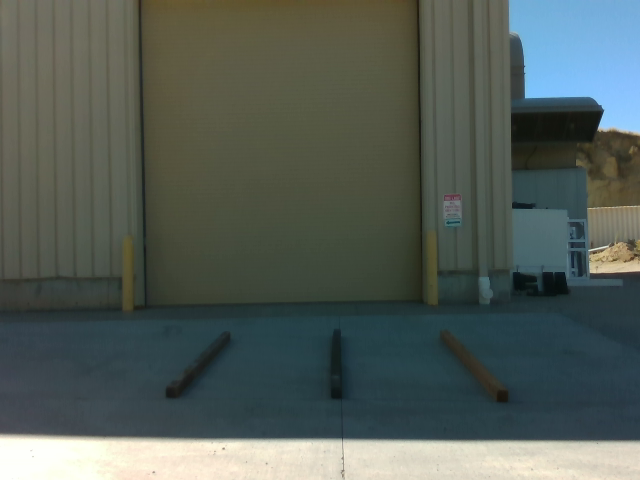dunnage: (161, 320, 520, 413)
